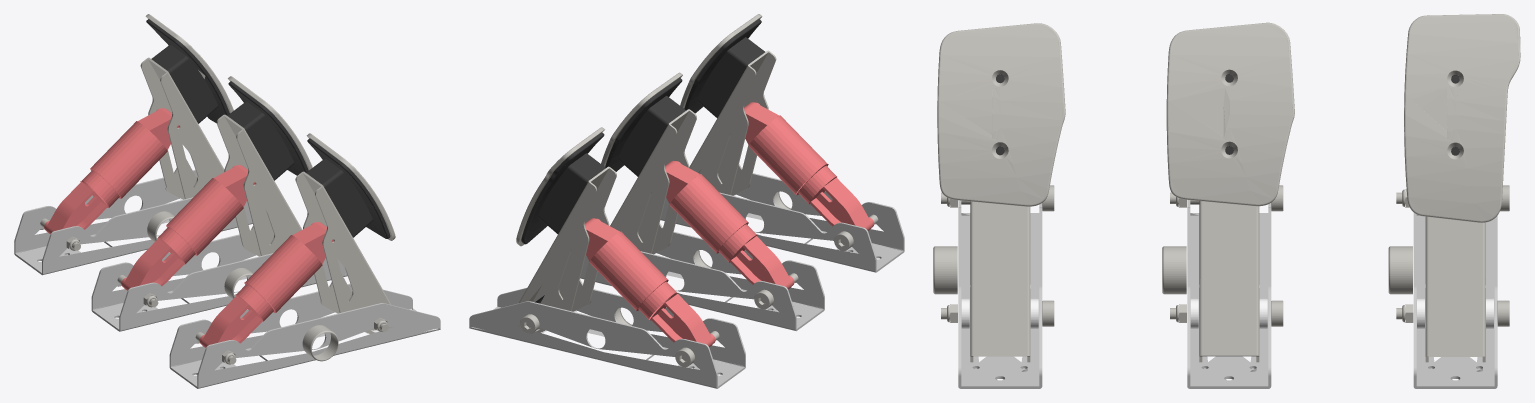
Rendered from pedalsMainReversed.fbx.
3 renders of one model, left to right at view 1: azimuth 30°, elevation 25°; view 2: azimuth 150°, elevation 25°; view 3: azimuth 270°, elevation 25°, orthographic. The views are drawn at different scales.
Parts seen in each view (by area): view 1: extrude#; view 2: extrude#; view 3: extrude#.
Part boxes in pixels (<box>): extrude#: <box>14,14,440,388</box>; extrude#: <box>469,14,904,388</box>; extrude#: <box>933,14,1520,388</box>.
Bounding box in the file's own units: 20.5 × 16.55 × 29.36.
